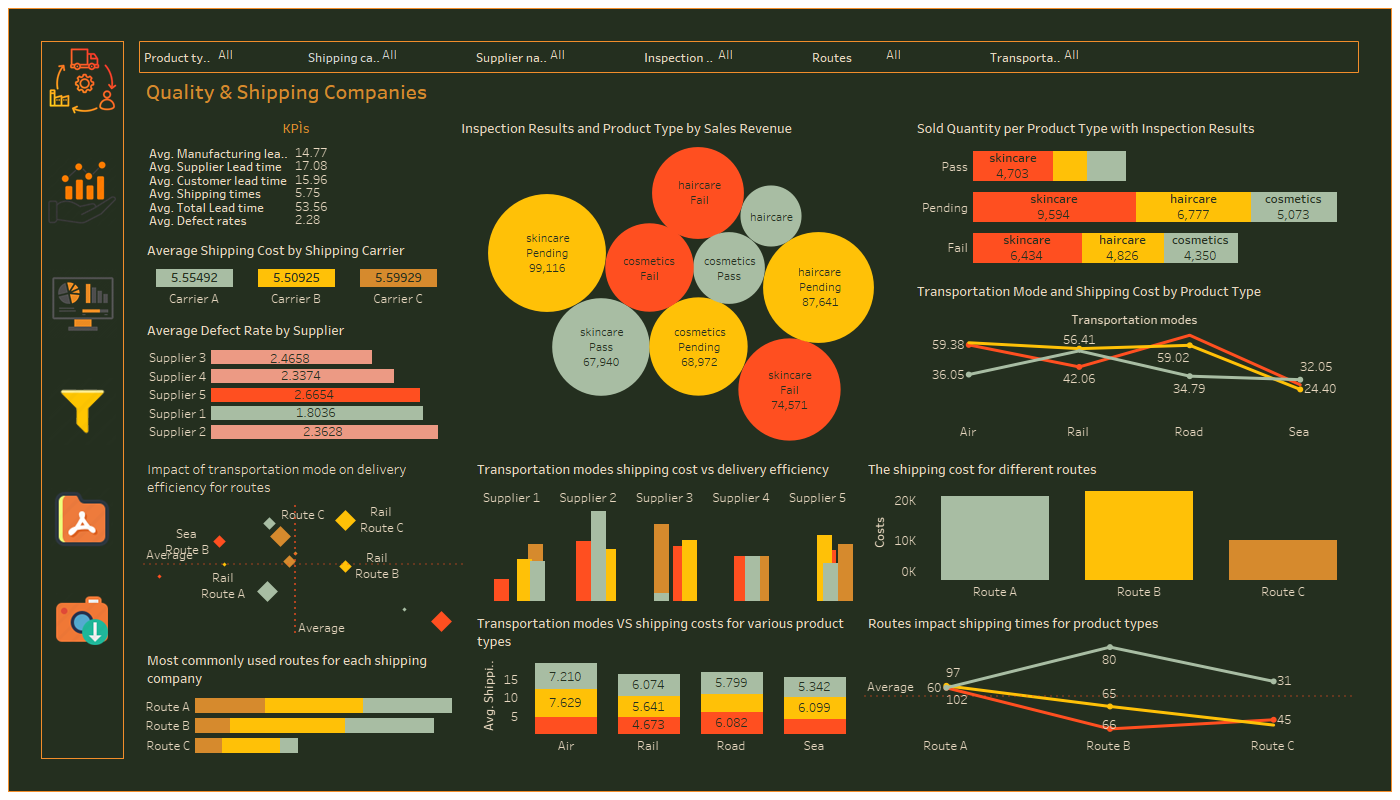

The dashboard page shown, as its layout file describes it:
{"tool":"tableau","page":{"name":"Quality & Shipping Dashboard","canvas":[1400,800],"ordinal":0},"visuals":[{"type":"blank","box":[9,9,1382,31.9]},{"type":"blank","box":[9,40.9,31.9,718.2]},{"type":"blank","box":[123.9,40.9,15,718.2]},{"type":"blank","box":[1359,40.9,32,750.1]},{"type":"image","param":"Image/supply chain.png","box":[41.9,41.9,81,76.8]},{"type":"filter","title":"Transportation Mode and Shipping Cost by Product Type ","param":"[federated.0te4glr1u799ua1gnf7531msefu8].[none:Product type:nk]","box":[139.9,41.9,164,30]},{"type":"filter","title":"Average Shipping Cost by Shipping Carrier","param":"[federated.0te4glr1u799ua1gnf7531msefu8].[none:Shipping carriers:nk]","box":[303.9,41.9,168,30]},{"type":"filter","title":"Average Defect Rate by Supplier ","param":"[federated.0te4glr1u799ua1gnf7531msefu8].[none:Supplier name:nk]","box":[471.9,41.9,168,30]},{"type":"filter","title":"Sold Quantity per Product Type with Inspection Results","param":"[federated.0te4glr1u799ua1gnf7531msefu8].[none:Inspection results:nk]","box":[639.9,41.9,168,30]},{"type":"filter","title":"Most commonly used routes for each shipping company","param":"[federated.0te4glr1u799ua1gnf7531msefu8].[none:Routes:nk]","box":[807.9,41.9,178,30]},{"type":"filter","title":"Transportation modes VS shipping costs for various product types","param":"[federated.0te4glr1u799ua1gnf7531msefu8].[none:Transportation modes:nk]","box":[985.9,41.9,168,30]},{"type":"text","box":[138.9,72.9,1220.1,36]},{"type":"worksheet","title":"KPI`s","mark":"Automatic","box":[138.9,108.9,314,122]},{"type":"worksheet","title":"Inspection Results and Product Type by Sales Revenue ","mark":"Circle","box":[452.9,108.9,456,336]},{"type":"worksheet","title":"Sold Quantity per Product Type with Inspection Results","mark":"Automatic","rows":["Inspection results"],"cols":["Number of products sold"],"box":[908.9,108.9,450.1,163]},{"type":"blank","box":[41.9,118.7,81,35]},{"type":"dashboard-object","box":[41.9,153.7,81,76.8]},{"type":"blank","box":[41.9,230.5,81,35]},{"type":"worksheet","title":"Average Shipping Cost by Shipping Carrier","mark":"Automatic","rows":["Shipping costs"],"cols":["Shipping carriers"],"box":[138.9,230.9,314,80]},{"type":"dashboard-object","box":[41.9,265.5,81,76.8]},{"type":"worksheet","title":"Transportation Mode and Shipping Cost by Product Type ","mark":"Line","rows":["Shipping costs"],"cols":["Transportation modes"],"box":[908.9,271.9,450.1,173]},{"type":"worksheet","title":"Average Defect Rate by Supplier ","mark":"Automatic","rows":["Supplier name"],"cols":["Defect rates"],"box":[138.9,310.9,314,134]},{"type":"blank","box":[41.9,342.3,81,32]},{"type":"dashboard-object","box":[41.9,374.3,81,75]},{"type":"blank","box":[138.9,444.9,1220.1,5]},{"type":"blank","box":[41.9,449.3,81,35]},{"type":"worksheet","title":"Impact of transportation mode on delivery efficiency for routes","mark":"Shape","rows":["Supplier Lead time"],"cols":["Shipping costs"],"box":[138.9,449.9,330,191]},{"type":"worksheet","title":"Transportation modes shipping cost vs delivery efficiency","mark":"Bar","rows":["Supplier Lead time"],"cols":["Supplier name","Costs"],"box":[468.9,449.9,391,154.6]},{"type":"worksheet","title":"The shipping cost for different routes","mark":"Bar","rows":["Costs"],"cols":["Routes"],"box":[859.9,449.9,499.1,154.6]},{"type":"dashboard-object","box":[41.9,484.3,81,70]},{"type":"blank","box":[41.9,554.3,81,35]},{"type":"dashboard-object","box":[41.9,589.3,81,60]},{"type":"worksheet","title":"Transportation modes VS shipping costs for various product types","mark":"Bar","rows":["Shipping costs"],"cols":["Transportation modes"],"box":[468.9,604.5,391,154.6]},{"type":"worksheet","title":"Routes impact shipping times for product types","mark":"Line","rows":["Shipping times"],"cols":["Routes"],"box":[859.9,604.5,499.1,154.6]},{"type":"worksheet","title":"Most commonly used routes for each shipping company","mark":"Bar","rows":["Routes"],"cols":["Number of products sold"],"box":[138.9,640.9,330,118.2]},{"type":"blank","box":[41.9,649.3,81,32]},{"type":"blank","box":[41.9,681.3,81,76.8]},{"type":"blank","box":[9,759.1,1350.1,31.9]}]}

Visuals, with their boxes in screenshot pixels (x1, y1, x2, y2), scaled from the page's 1400x800 canvas onto the 1400x800 screenshot:
blank: <bbox>9, 9, 1391, 41</bbox>
blank: <bbox>9, 41, 41, 759</bbox>
blank: <bbox>124, 41, 139, 759</bbox>
blank: <bbox>1359, 41, 1391, 791</bbox>
image: <bbox>42, 42, 123, 119</bbox>
"Transportation Mode and Shipping Cost by Product Type " filter: <bbox>140, 42, 304, 72</bbox>
"Average Shipping Cost by Shipping Carrier" filter: <bbox>304, 42, 472, 72</bbox>
"Average Defect Rate by Supplier " filter: <bbox>472, 42, 640, 72</bbox>
"Sold Quantity per Product Type with Inspection Results" filter: <bbox>640, 42, 808, 72</bbox>
"Most commonly used routes for each shipping company" filter: <bbox>808, 42, 986, 72</bbox>
"Transportation modes VS shipping costs for various product types" filter: <bbox>986, 42, 1154, 72</bbox>
text: <bbox>139, 73, 1359, 109</bbox>
"KPI`s" worksheet: <bbox>139, 109, 453, 231</bbox>
"Inspection Results and Product Type by Sales Revenue " worksheet (Circle marks): <bbox>453, 109, 909, 445</bbox>
"Sold Quantity per Product Type with Inspection Results" worksheet: <bbox>909, 109, 1359, 272</bbox>
blank: <bbox>42, 119, 123, 154</bbox>
dashboard-object: <bbox>42, 154, 123, 230</bbox>
blank: <bbox>42, 230, 123, 266</bbox>
"Average Shipping Cost by Shipping Carrier" worksheet: <bbox>139, 231, 453, 311</bbox>
dashboard-object: <bbox>42, 266, 123, 342</bbox>
"Transportation Mode and Shipping Cost by Product Type " worksheet (Line marks): <bbox>909, 272, 1359, 445</bbox>
"Average Defect Rate by Supplier " worksheet: <bbox>139, 311, 453, 445</bbox>
blank: <bbox>42, 342, 123, 374</bbox>
dashboard-object: <bbox>42, 374, 123, 449</bbox>
blank: <bbox>139, 445, 1359, 450</bbox>
blank: <bbox>42, 449, 123, 484</bbox>
"Impact of transportation mode on delivery efficiency for routes" worksheet (Shape marks): <bbox>139, 450, 469, 641</bbox>
"Transportation modes shipping cost vs delivery efficiency" worksheet (Bar marks): <bbox>469, 450, 860, 604</bbox>
"The shipping cost for different routes" worksheet (Bar marks): <bbox>860, 450, 1359, 604</bbox>
dashboard-object: <bbox>42, 484, 123, 554</bbox>
blank: <bbox>42, 554, 123, 589</bbox>
dashboard-object: <bbox>42, 589, 123, 649</bbox>
"Transportation modes VS shipping costs for various product types" worksheet (Bar marks): <bbox>469, 604, 860, 759</bbox>
"Routes impact shipping times for product types" worksheet (Line marks): <bbox>860, 604, 1359, 759</bbox>
"Most commonly used routes for each shipping company" worksheet (Bar marks): <bbox>139, 641, 469, 759</bbox>
blank: <bbox>42, 649, 123, 681</bbox>
blank: <bbox>42, 681, 123, 758</bbox>
blank: <bbox>9, 759, 1359, 791</bbox>
